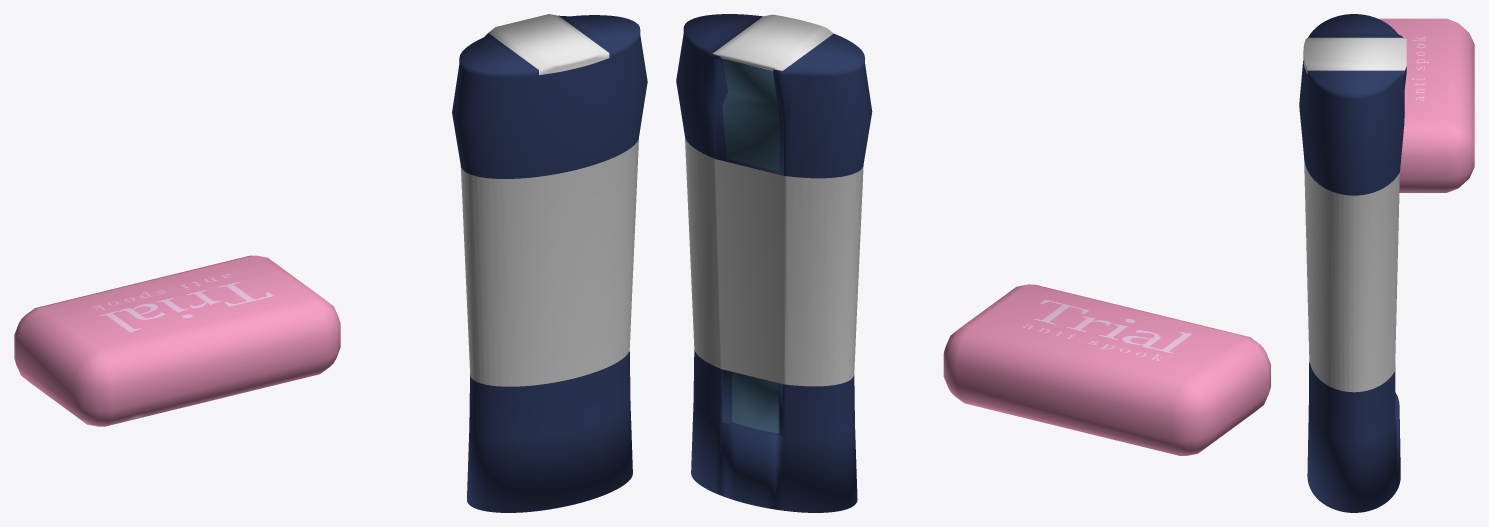
File: soaps.dae
The picture shows the model from 3 angles, left to right: view 1: azimuth 30°, elevation 25°; view 2: azimuth 150°, elevation 25°; view 3: azimuth 270°, elevation 25°; orthographic projection. The views are drawn at different scales.
Parts seen in each view (by area): view 1: body_soap, soap_bar_high; view 2: body_soap, soap_bar_high; view 3: body_soap, soap_bar_high.
Boxes of the visible parts, x1=… form: body_soap: x1=452, y1=14, x2=647, y2=512; soap_bar_high: x1=14, y1=255, x2=340, y2=426; body_soap: x1=676, y1=14, x2=872, y2=512; soap_bar_high: x1=943, y1=284, x2=1270, y2=455; body_soap: x1=1299, y1=14, x2=1406, y2=512; soap_bar_high: x1=1378, y1=18, x2=1474, y2=192.
Size of the model in its own units: 1.19 by 0.3269 by 0.8735.
